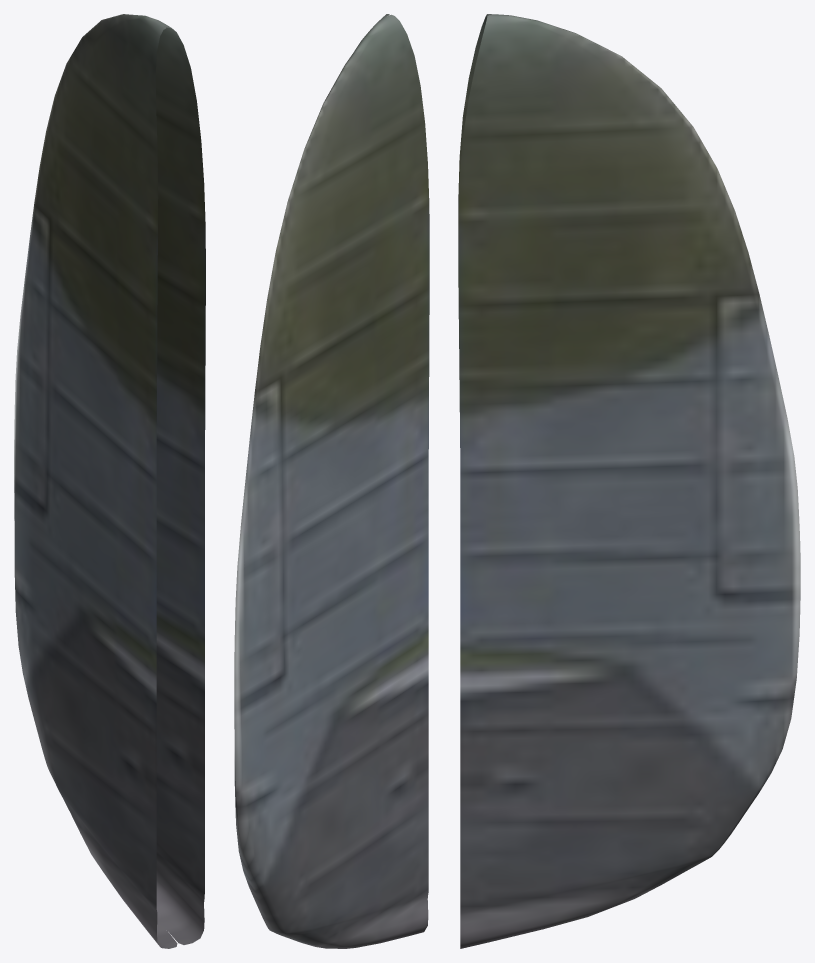
Rendered from rudder.obj.
The picture shows the model from 3 angles, left to right: view 1: azimuth 30°, elevation 25°; view 2: azimuth 150°, elevation 25°; view 3: azimuth 270°, elevation 25°; orthographic projection. The views are drawn at different scales.
Parts seen in each view (by area): view 1: SF_StearingBack_Plane.010; view 2: SF_StearingBack_Plane.010; view 3: SF_StearingBack_Plane.010.
Boxes of the visible parts, x1,y1,x2,y2 form: SF_StearingBack_Plane.010: (14,14,205,948); SF_StearingBack_Plane.010: (234,14,429,948); SF_StearingBack_Plane.010: (458,14,800,948).
Bounding box in the file's own units: 0.0705 × 1.26 × 0.4235.
Materials: 1 (1 with a texture image).
